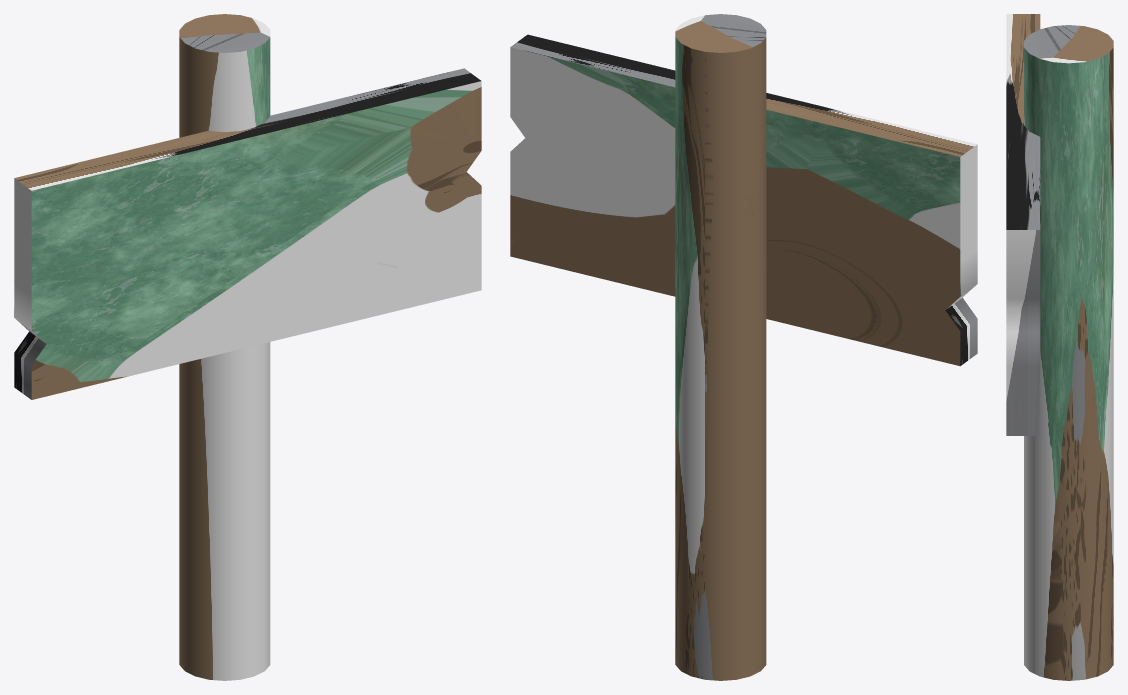
File: WoodSign.fbx
3 views of the same model, side by side, from view 1: azimuth 30°, elevation 25°; view 2: azimuth 150°, elevation 25°; view 3: azimuth 270°, elevation 25° (orthographic).
Visible parts, largest first — view 1: defaultMaterial, defaultMaterial.001; view 2: defaultMaterial, defaultMaterial.001; view 3: defaultMaterial.001, defaultMaterial.
Part boxes in pixels (left/top/right/bottom): defaultMaterial: left=14, top=68, right=481, bottom=399; defaultMaterial.001: left=179, top=14, right=270, bottom=680; defaultMaterial: left=510, top=34, right=977, bottom=366; defaultMaterial.001: left=675, top=14, right=766, bottom=680; defaultMaterial.001: left=1024, top=25, right=1113, bottom=680; defaultMaterial: left=1006, top=14, right=1040, bottom=435.
Bounding box in the file's own units: 107 × 143 × 22.47.
